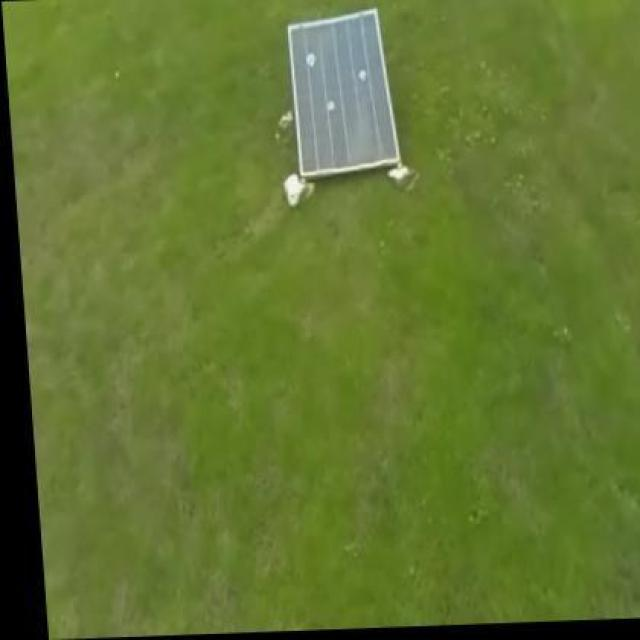soiled: (288, 8, 402, 178)
